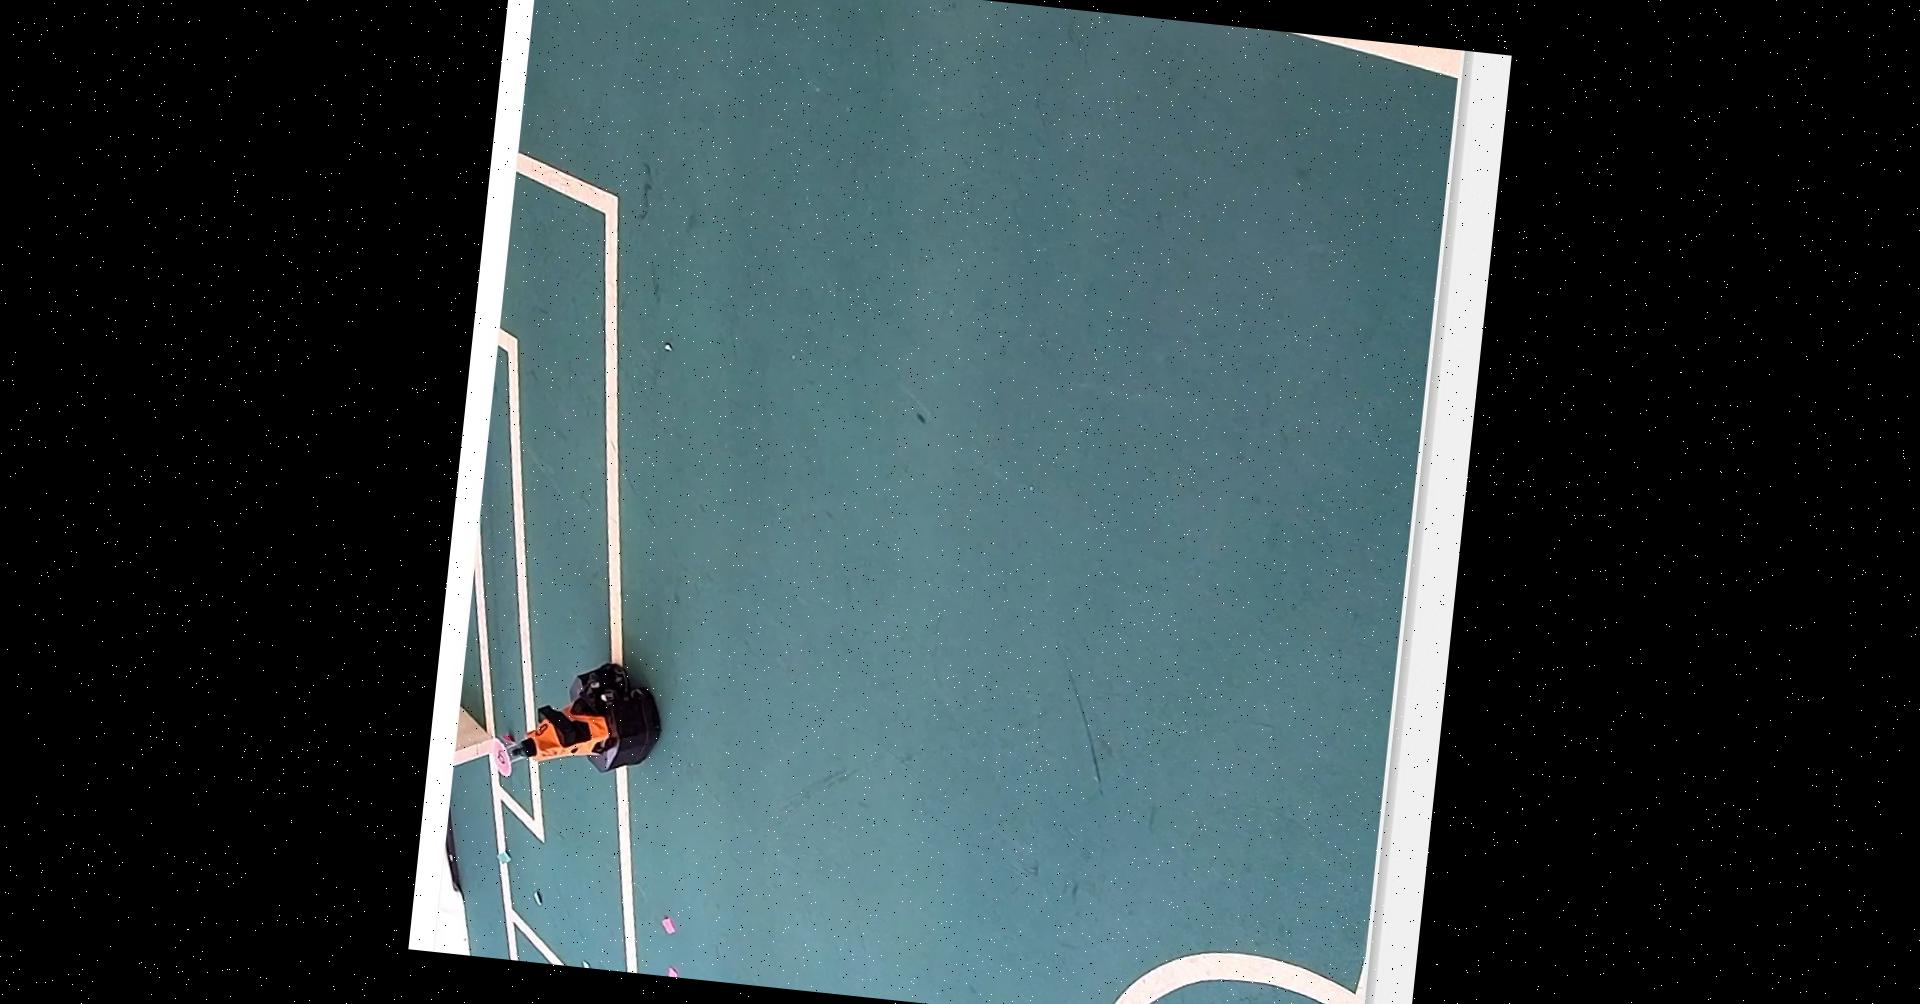Team_Red: (477, 641, 673, 795)
